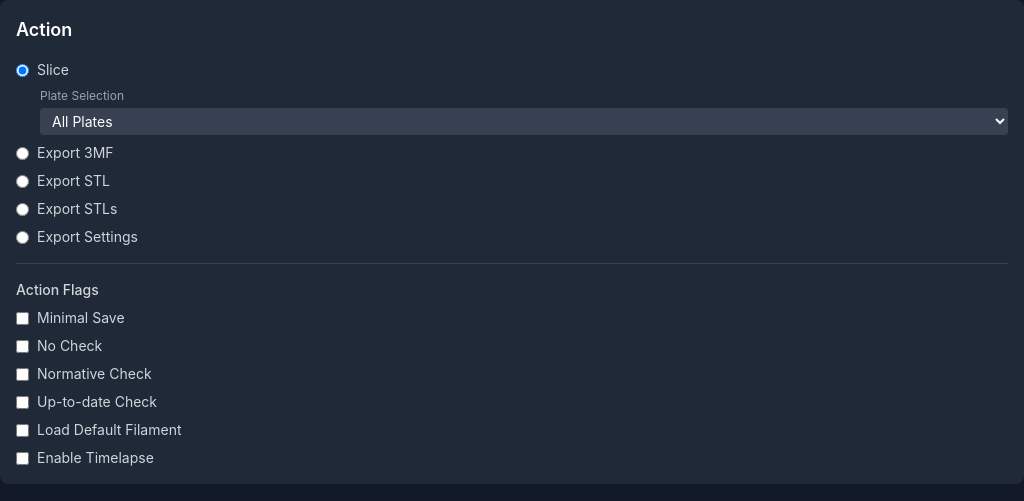
it: ActionSelector › Conditional UI: Plate Selector (Requirement 5.2) › hides plate selector when Export STL is selected
// Select Export STL
Click the radio button labelled "Export STL".
click(22, 181)  # box 16,174 -> 29,188
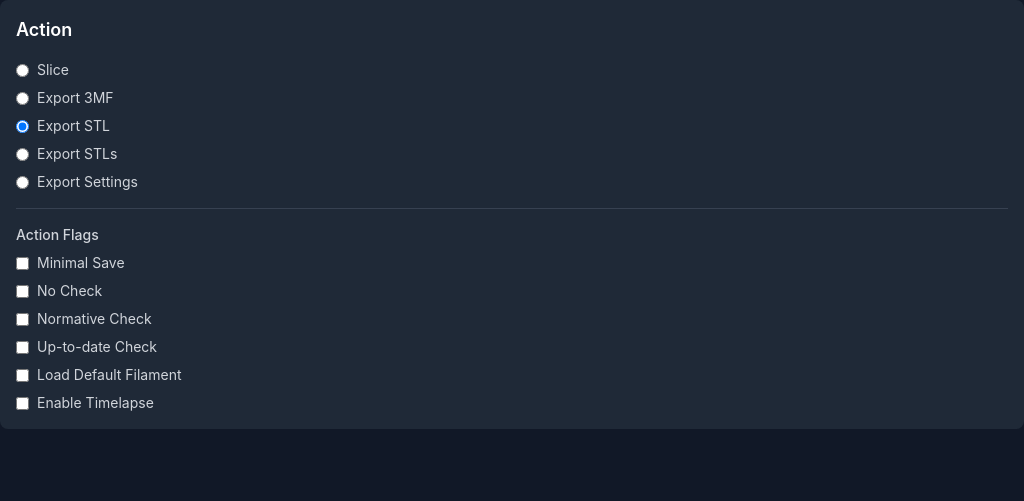
Expected: the text "Plate Selection" is gone
